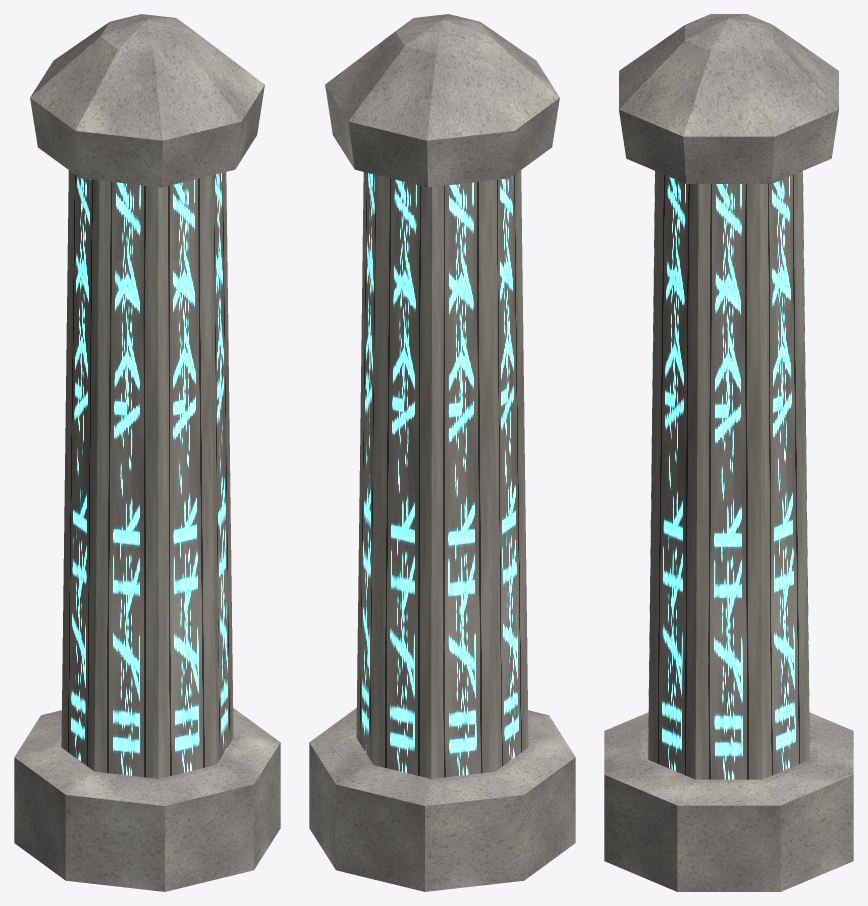
The model's file is formation_pillar.glb.
3 views of the same model, side by side, from view 1: azimuth 30°, elevation 25°; view 2: azimuth 150°, elevation 25°; view 3: azimuth 270°, elevation 25° (orthographic).
Visible parts, largest first — view 1: Pillar, PillarCaps; view 2: Pillar, PillarCaps; view 3: Pillar, PillarCaps.
Part boxes in pixels (bbox=[...]): Pillar: bbox=[61, 170, 233, 778]; PillarCaps: bbox=[14, 14, 280, 891]; Pillar: bbox=[356, 170, 528, 778]; PillarCaps: bbox=[309, 14, 575, 891]; Pillar: bbox=[648, 171, 809, 779]; PillarCaps: bbox=[604, 14, 853, 891].
Size of what is drawn, in the model's own units: 1.57 by 5.7 by 1.57.
Materials: 2 (2 with a texture image).
